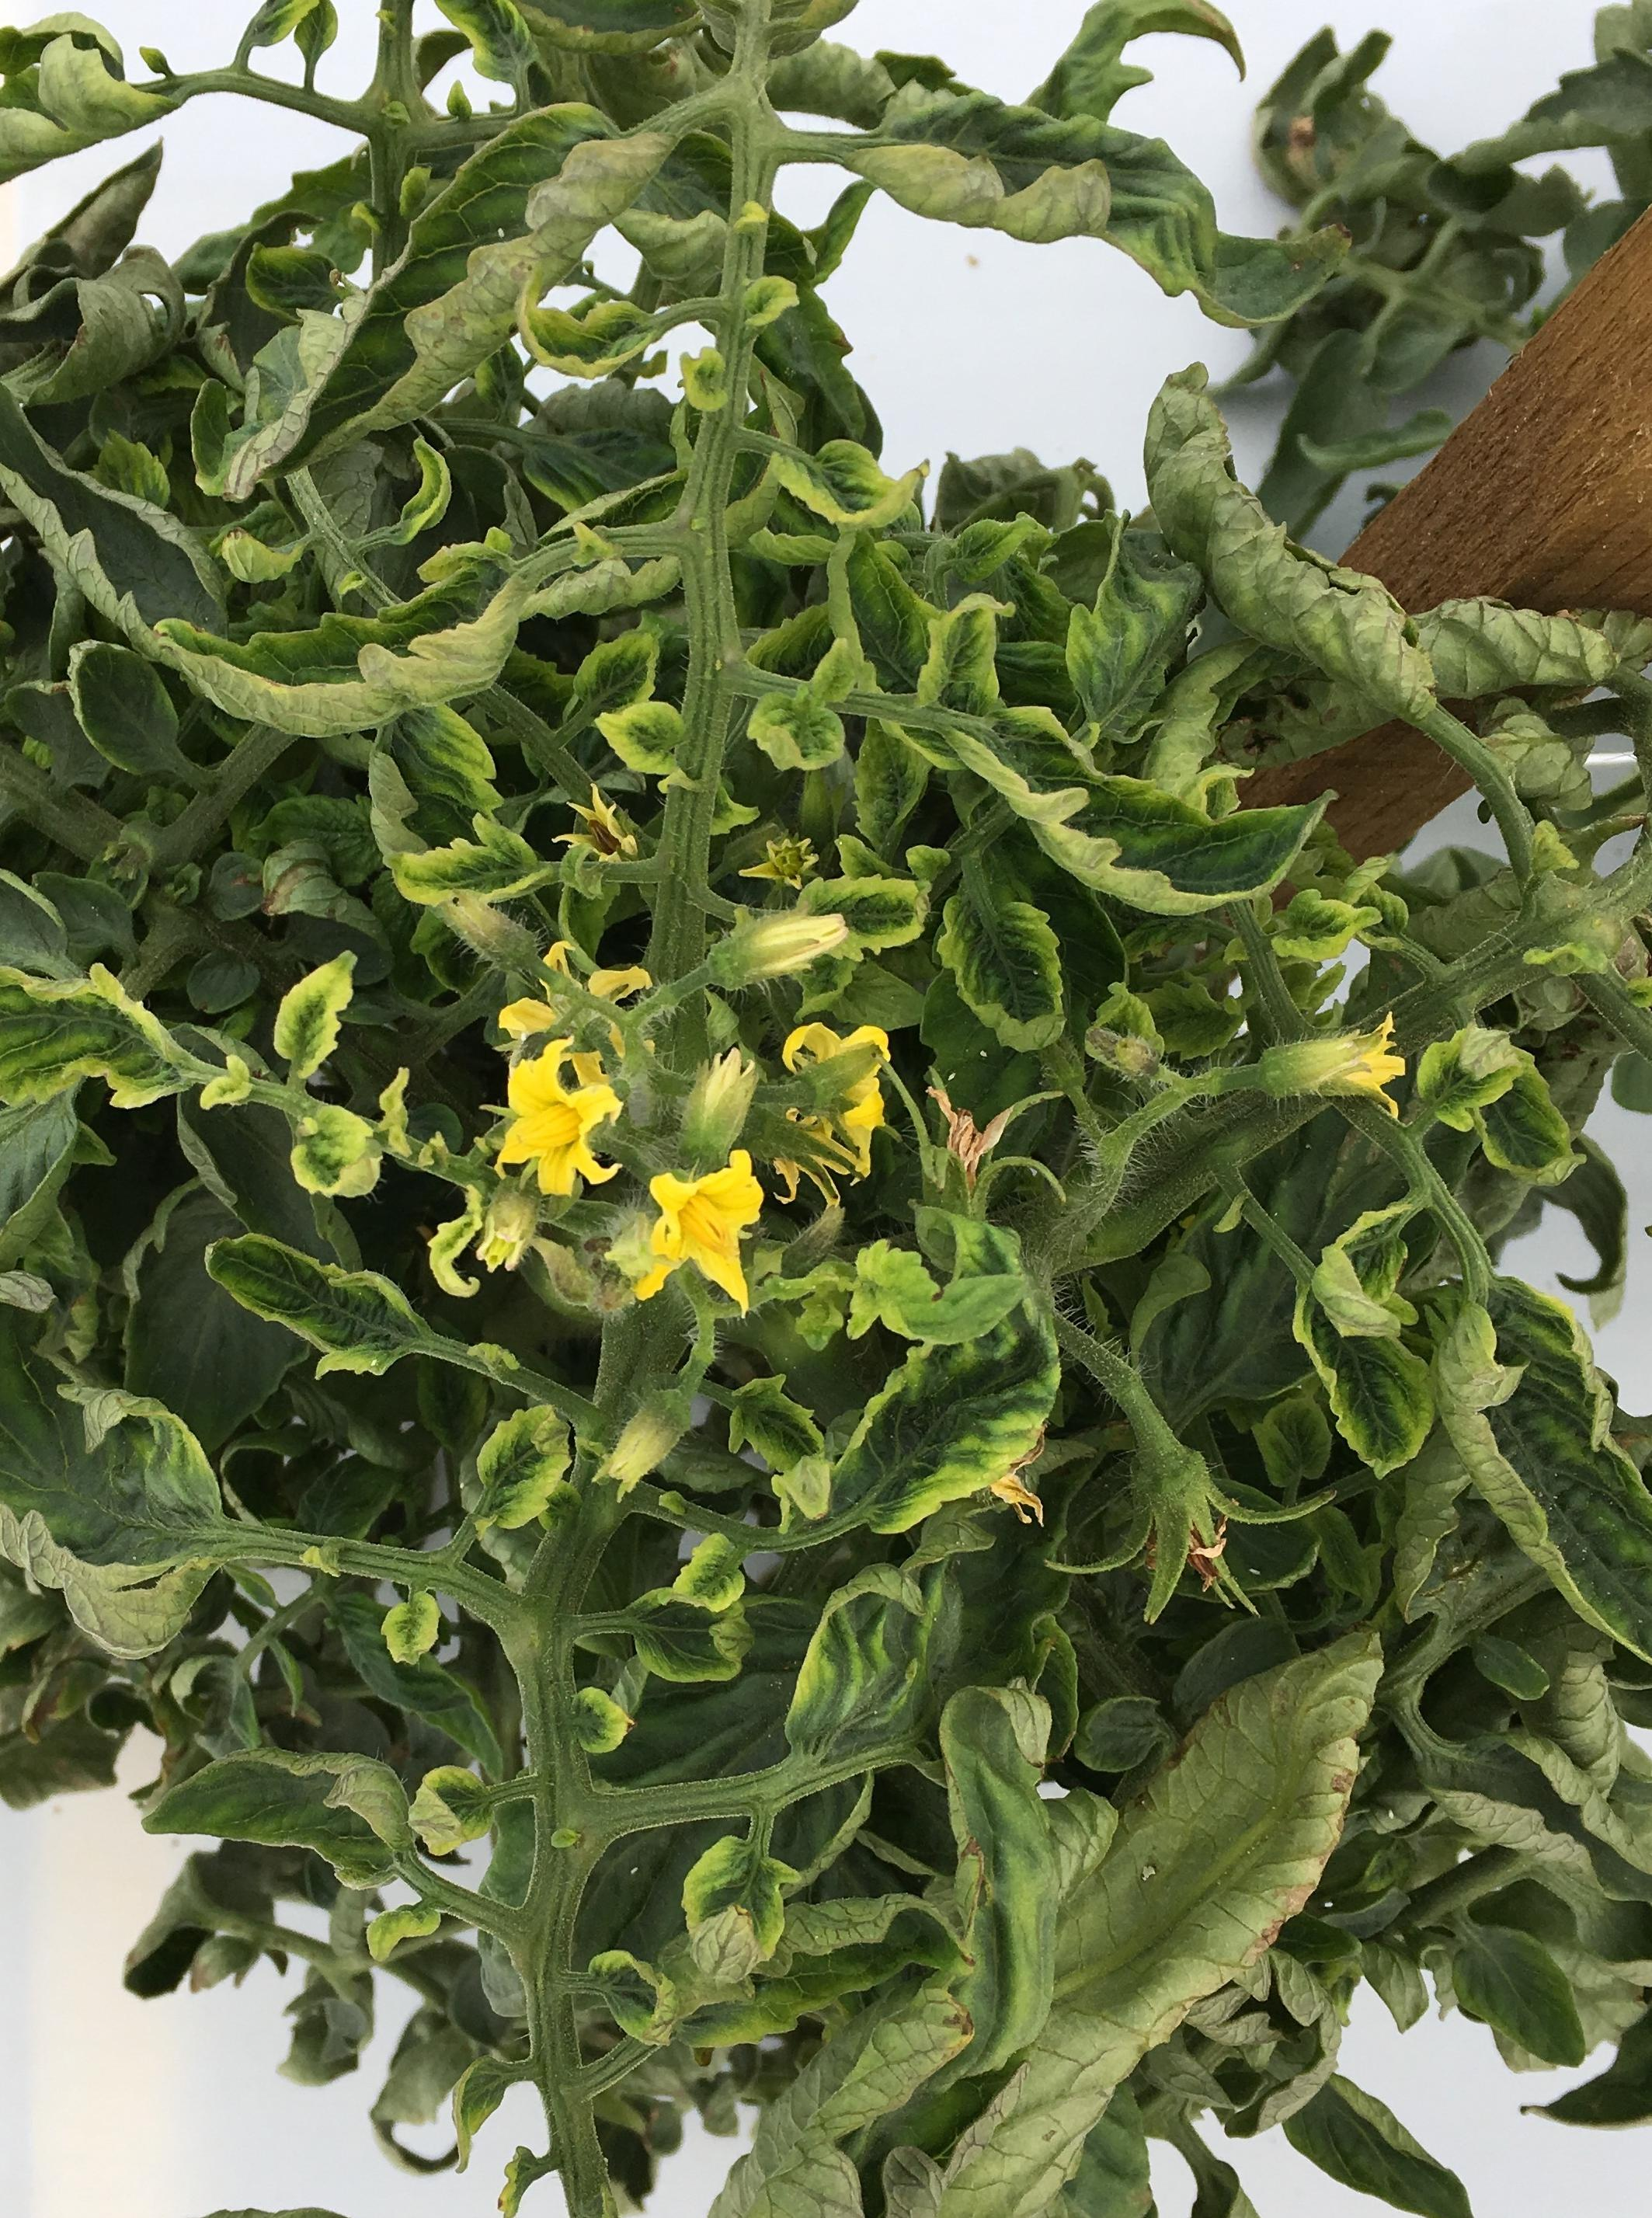Tomato leaf yellow virus: (31, 476, 651, 729), (901, 594, 1340, 937), (0, 1232, 252, 1708), (786, 1199, 1093, 1557), (753, 1468, 1072, 1768), (0, 927, 229, 1224), (1284, 1194, 1477, 1513), (925, 864, 1098, 1052)
